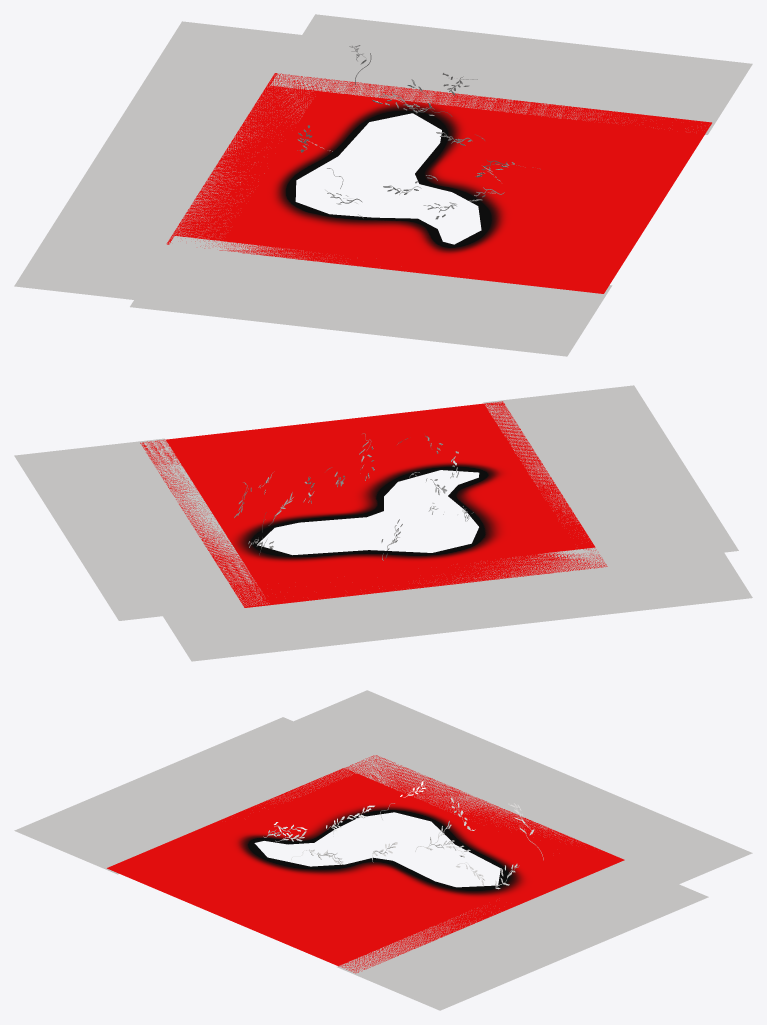
File: Water Edge.fbx
3 views of the same model, one above another, from view 1: azimuth 30°, elevation 25°; view 2: azimuth 150°, elevation 25°; view 3: azimuth 270°, elevation 25° (orthographic). The views are drawn at different scales.
Parts seen in each view (by area): view 1: Water Edge SDF, Water Edge Top (1), Water Edge Bottom, Water Edge Top; view 2: Water Edge SDF, Water Edge Top (1), Water Edge Bottom, Water Edge Top; view 3: Water Edge SDF, Water Edge Top (1), Water Edge Top, Water Edge Bottom.
Part boxes in pixels (x1,y1,x2,y2): Water Edge SDF: (166, 73, 711, 293); Water Edge Top (1): (14, 21, 349, 299); Water Edge Bottom: (270, 14, 752, 134); Water Edge Top: (130, 236, 612, 356); Water Edge SDF: (140, 401, 607, 607); Water Edge Top (1): (152, 535, 752, 661); Water Edge Bottom: (14, 438, 269, 620); Water Edge Top: (483, 385, 738, 562); Water Edge SDF: (107, 755, 624, 973); Water Edge Top (1): (264, 690, 752, 896); Water Edge Top: (14, 717, 385, 874); Water Edge Bottom: (337, 873, 708, 1010).
Bounding box in the file's own units: 272 × 31.63 × 265.
4 materials, 1 textured.
